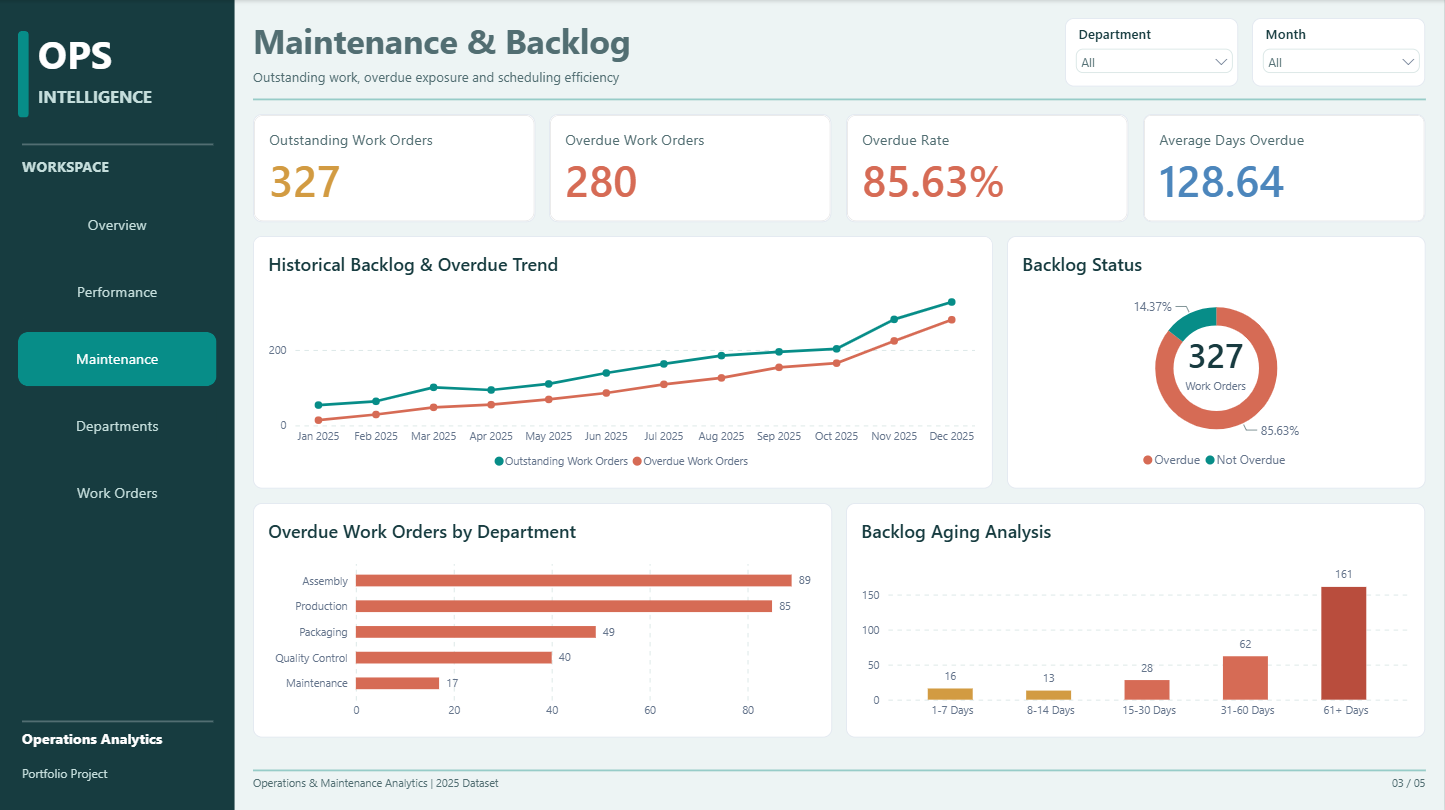

Layout of this report page (visuals, bound fields, positions):
{"tool":"powerbi","page":{"name":"03 - Maintenance & Backlog","canvas":[1600,900],"ordinal":2},"visuals":[{"type":"shape","title":"shpSidebarBackground","box":[0,0,260,900],"z":0},{"type":"donutChart","title":"Backlog Status","fields":{"Category":["Backlog Status Categories.Status"],"Y":["Backlog Status Categories.Backlog Status Count"]},"box":[1116,262,464,279.6],"z":0,"group":"g1"},{"type":"shape","title":"shpBrandAccent","box":[20,34,12,96],"z":1000},{"type":"cardVisual","title":"crdBacklogTotal","fields":{"Data":["_Measures.Outstanding Work Orders"]},"box":[1297.1,357.5,101,88.1],"z":1000,"group":"g1"},{"type":"textbox","title":"txtBrandTitle","box":[42,30,194,64],"z":2000},{"type":"textbox","title":"txtBrandSubtitle","box":[42,94,194,36],"z":3000},{"type":"shape","title":"shpSidebarDividerTop","box":[24,154,212,12],"z":4000},{"type":"textbox","title":"txtWorkspaceLabel","box":[24,174,212,36],"z":5000},{"type":"shape","title":"shpSidebarDividerBottom","box":[24,794,212,12],"z":6000},{"type":"textbox","title":"txtSidebarFooterTitle","box":[24,808,212,40],"z":7000},{"type":"textbox","title":"txtSidebarFooterSubtitle","box":[24,848,212,36],"z":8000},{"type":"textbox","title":"txtPageTitle","box":[280,20,880,60],"z":9000},{"type":"textbox","title":"txtPageSubtitle","box":[280,75.7,658.6,32.9],"z":10000},{"type":"shape","title":"shpHeaderDivider","box":[280,104,1300,12],"z":11000},{"type":"shape","title":"shpFooterDivider","box":[280,848,1300,12],"z":12000},{"type":"textbox","title":"txtFooterDescription","box":[280,858,1060,32],"z":13000},{"type":"textbox","title":"txtPageNumber","box":[1400,858,180,32],"z":14000},{"type":"actionButton","title":"btnNavWorkOrders","box":[20,516,220,60],"z":15000},{"type":"actionButton","title":"btnNavDepartments","box":[20,442,220,60],"z":16000},{"type":"actionButton","title":"btnNavMaintenance","box":[20,368,220,60],"z":17000},{"type":"actionButton","title":"btnNavPerformance","box":[20,294,220,60],"z":18000},{"type":"actionButton","title":"btnNavOverview","box":[20,220,220,60],"z":19000},{"type":"slicer","title":"slcDepartment","fields":{"Values":["Departments.Department"]},"box":[1180,20,192,76],"z":20000},{"type":"slicer","title":"slcMonth","fields":{"Values":["Calendar.Month Year"]},"box":[1388,20,192,76],"z":21000},{"type":"cardVisual","title":"crdOutstandingWorkOrders","fields":{"Data":["_Measures.Outstanding Work Orders"]},"box":[280,126,313,120],"z":22000},{"type":"cardVisual","title":"crdOverdueWorkOrders","fields":{"Data":["_Measures.Overdue Work Orders"]},"box":[609,126,313,120],"z":23000},{"type":"cardVisual","title":"crdOverdueRate","fields":{"Data":["_Measures.Overdue Rate"]},"box":[938,126.4,313,120],"z":24000},{"type":"cardVisual","title":"crdAverageDaysOverdue","fields":{"Data":["_Measures.Average Days Overdue"]},"box":[1267,126,313,120],"z":25000},{"type":"lineChart","title":"Historical Backlog & Overdue Trend","fields":{"Category":["Calendar.Month Year"],"Y":["_Measures.Outstanding Work Orders","_Measures.Overdue Work Orders"]},"box":[280,262,820,280],"z":26000},{"type":"group","id":"g1","title":"grpBacklogStatus","box":[1116,262,464,280],"z":27000},{"type":"clusteredBarChart","title":"Overdue Work Orders by Department","fields":{"Category":["Departments.Department"],"Y":["_Measures.Overdue Work Orders"]},"box":[280,558,642,260],"z":28000},{"type":"clusteredColumnChart","title":"Backlog Aging Analysis","fields":{"Category":["Overdue Aging Buckets.Aging Bucket"],"Y":["_Measures.Overdue Work Orders by Age"]},"box":[938,558,642,260],"z":29000}]}

Visuals, with their boxes on the page's 1600x900 design canvas (x1, y1, x2, y2). These are canvas units, not pixel positions in the 1445x810 screenshot, which may show the page scaled, cropped or inside an application window:
"shpSidebarBackground" shape: Rect(0, 0, 260, 900)
"Backlog Status" donutChart: Rect(1116, 262, 1580, 542)
"shpBrandAccent" shape: Rect(20, 34, 32, 130)
"crdBacklogTotal" cardVisual: Rect(1297, 358, 1398, 446)
"txtBrandTitle" textbox: Rect(42, 30, 236, 94)
"txtBrandSubtitle" textbox: Rect(42, 94, 236, 130)
"shpSidebarDividerTop" shape: Rect(24, 154, 236, 166)
"txtWorkspaceLabel" textbox: Rect(24, 174, 236, 210)
"shpSidebarDividerBottom" shape: Rect(24, 794, 236, 806)
"txtSidebarFooterTitle" textbox: Rect(24, 808, 236, 848)
"txtSidebarFooterSubtitle" textbox: Rect(24, 848, 236, 884)
"txtPageTitle" textbox: Rect(280, 20, 1160, 80)
"txtPageSubtitle" textbox: Rect(280, 76, 939, 109)
"shpHeaderDivider" shape: Rect(280, 104, 1580, 116)
"shpFooterDivider" shape: Rect(280, 848, 1580, 860)
"txtFooterDescription" textbox: Rect(280, 858, 1340, 890)
"txtPageNumber" textbox: Rect(1400, 858, 1580, 890)
"btnNavWorkOrders" actionButton: Rect(20, 516, 240, 576)
"btnNavDepartments" actionButton: Rect(20, 442, 240, 502)
"btnNavMaintenance" actionButton: Rect(20, 368, 240, 428)
"btnNavPerformance" actionButton: Rect(20, 294, 240, 354)
"btnNavOverview" actionButton: Rect(20, 220, 240, 280)
"slcDepartment" slicer: Rect(1180, 20, 1372, 96)
"slcMonth" slicer: Rect(1388, 20, 1580, 96)
"crdOutstandingWorkOrders" cardVisual: Rect(280, 126, 593, 246)
"crdOverdueWorkOrders" cardVisual: Rect(609, 126, 922, 246)
"crdOverdueRate" cardVisual: Rect(938, 126, 1251, 246)
"crdAverageDaysOverdue" cardVisual: Rect(1267, 126, 1580, 246)
"Historical Backlog & Overdue Trend" lineChart: Rect(280, 262, 1100, 542)
"grpBacklogStatus" group: Rect(1116, 262, 1580, 542)
"Overdue Work Orders by Department" clusteredBarChart: Rect(280, 558, 922, 818)
"Backlog Aging Analysis" clusteredColumnChart: Rect(938, 558, 1580, 818)
